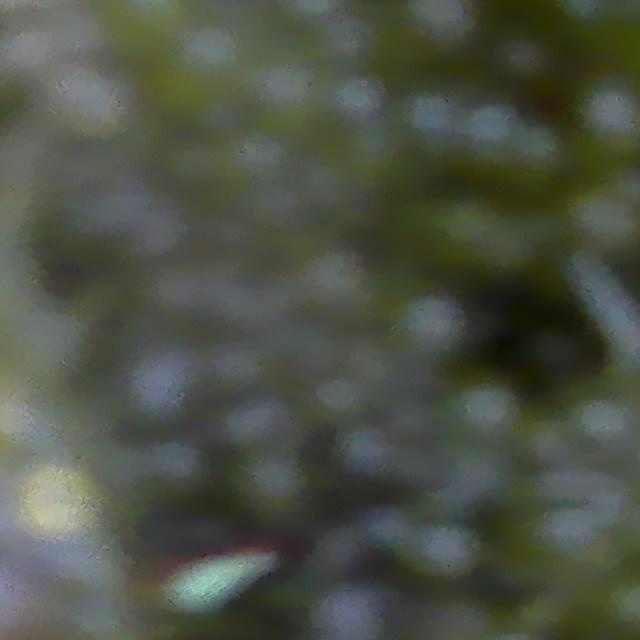SeaGrape: (297, 245, 374, 321), (567, 179, 640, 256), (577, 84, 640, 159), (451, 378, 520, 442), (570, 392, 640, 455), (221, 126, 288, 189), (405, 0, 480, 56), (401, 88, 464, 151), (176, 21, 241, 82), (327, 71, 384, 124)
